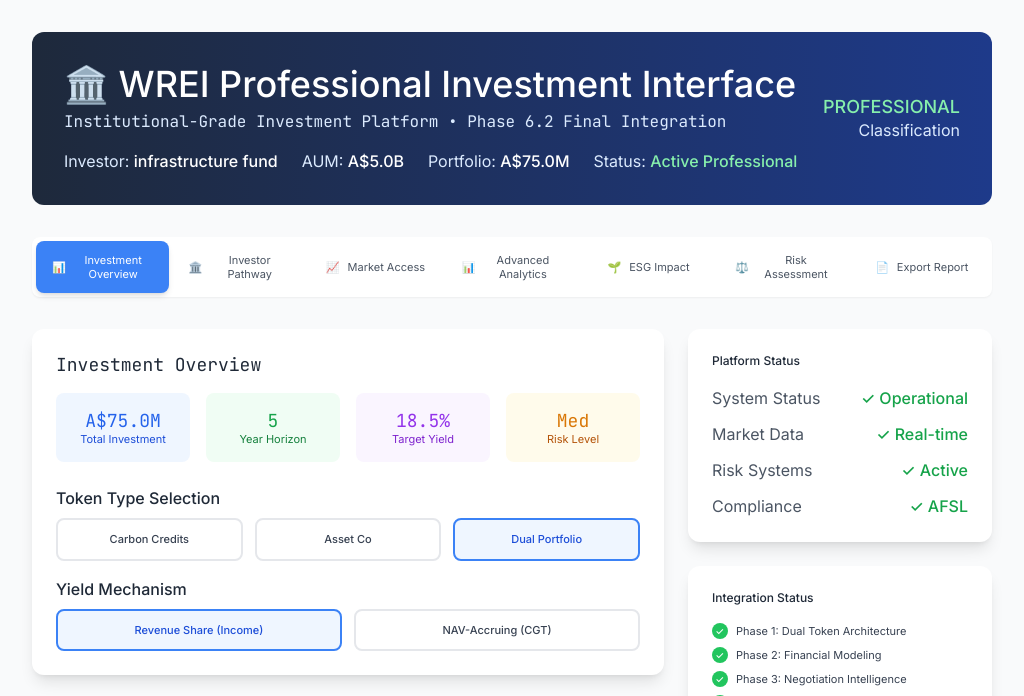
Test: Phase 6.2: UI Integration › market access toggles display correctly
Click the text "Market Access": (386, 267) [348,260,425,274]
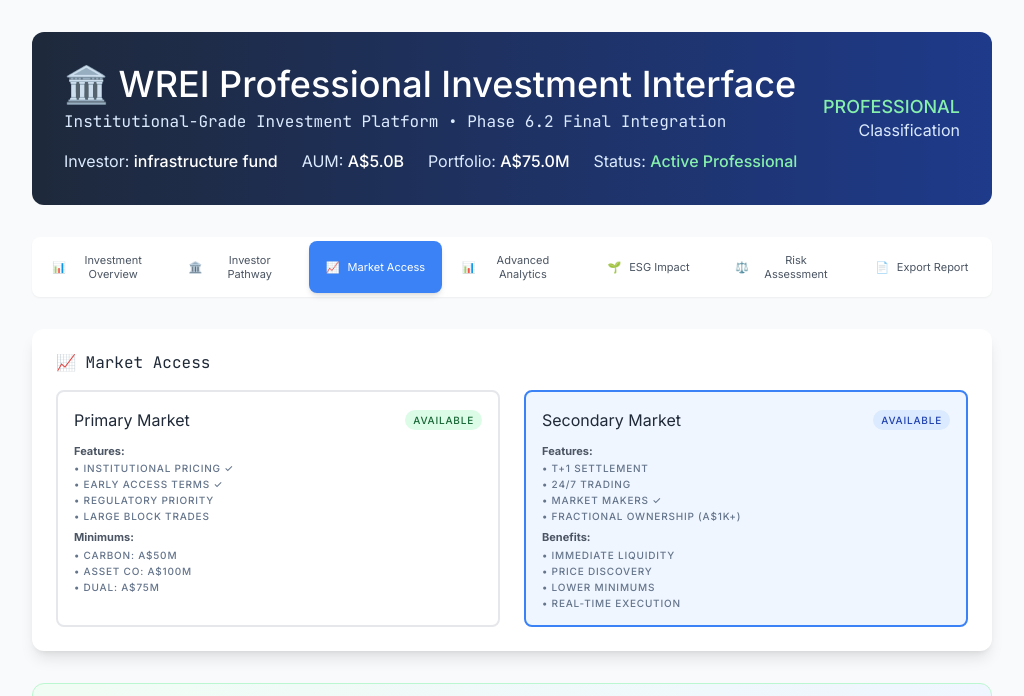
Expected: the text "Primary Market" is shown, [74,408,190,432]
Expected: the text "Secondary Market" is shown, [542,408,681,432]
Expected: the text "Available" in the row of "Primary Market" is shown, [413,414,474,426]
